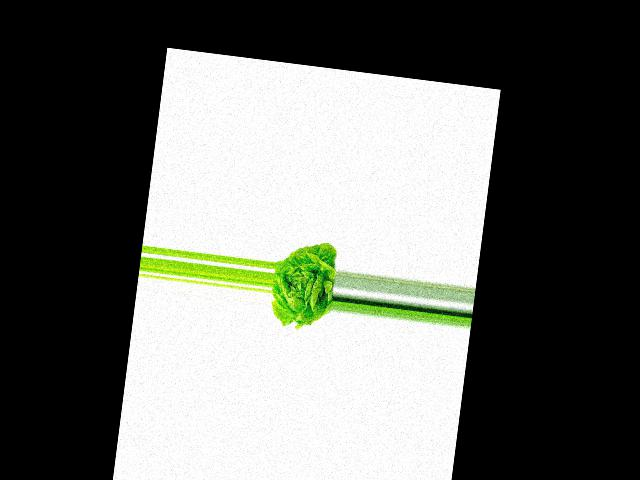lettuce: (268, 235, 340, 329)
